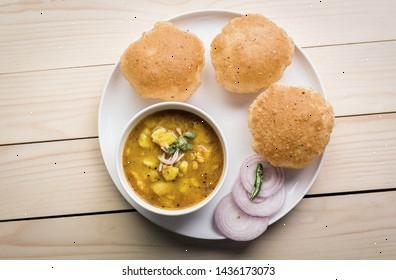puri: (221, 11, 352, 157)
